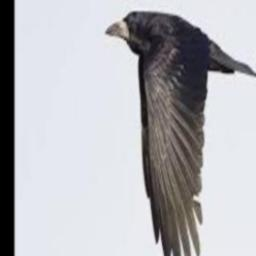Crow: (104, 10, 256, 256)
